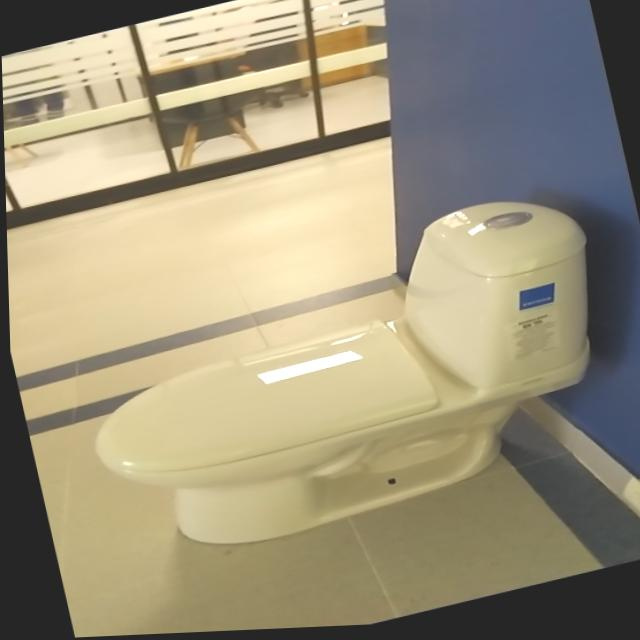toilet: (57, 183, 634, 578)
